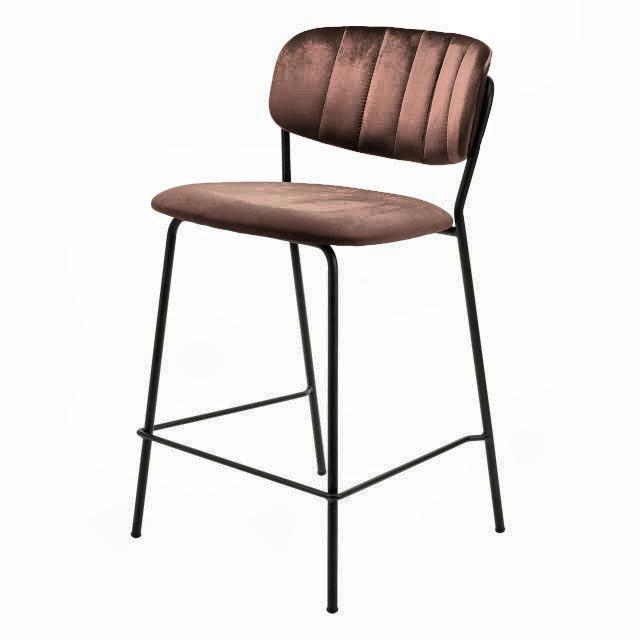cadeira: (125, 19, 514, 616)
